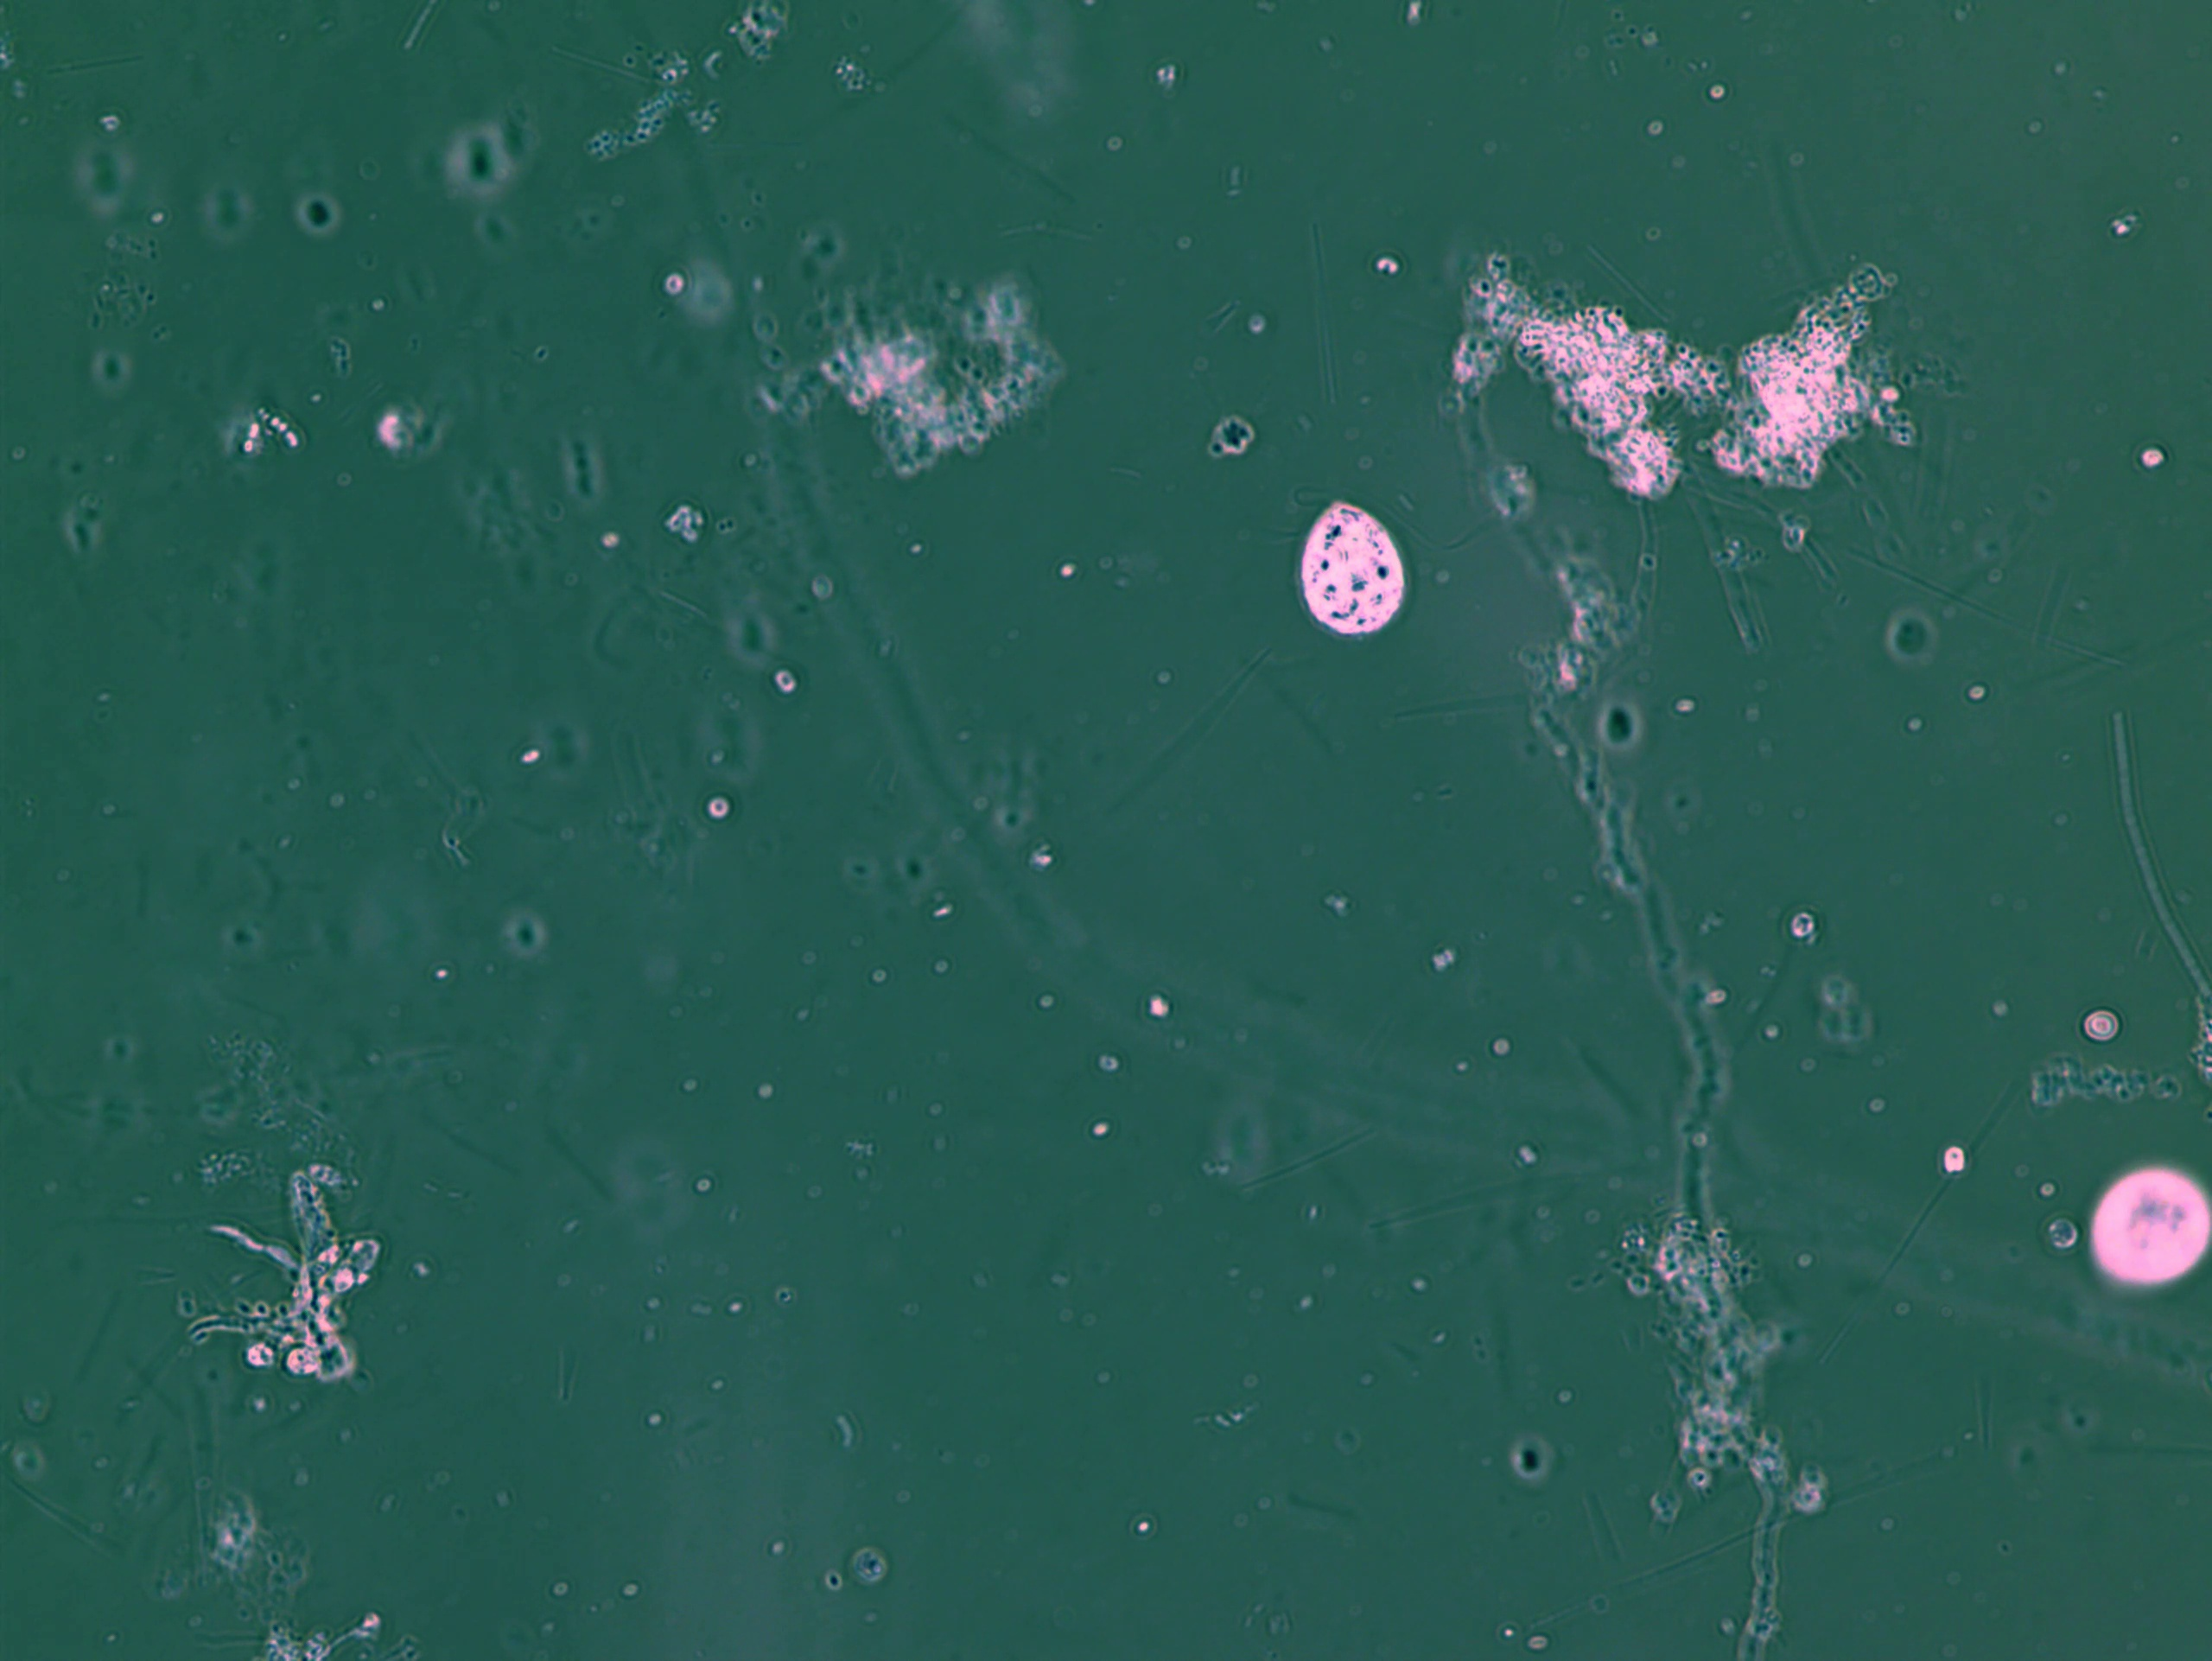depth:0: (1244, 473, 1450, 675)
